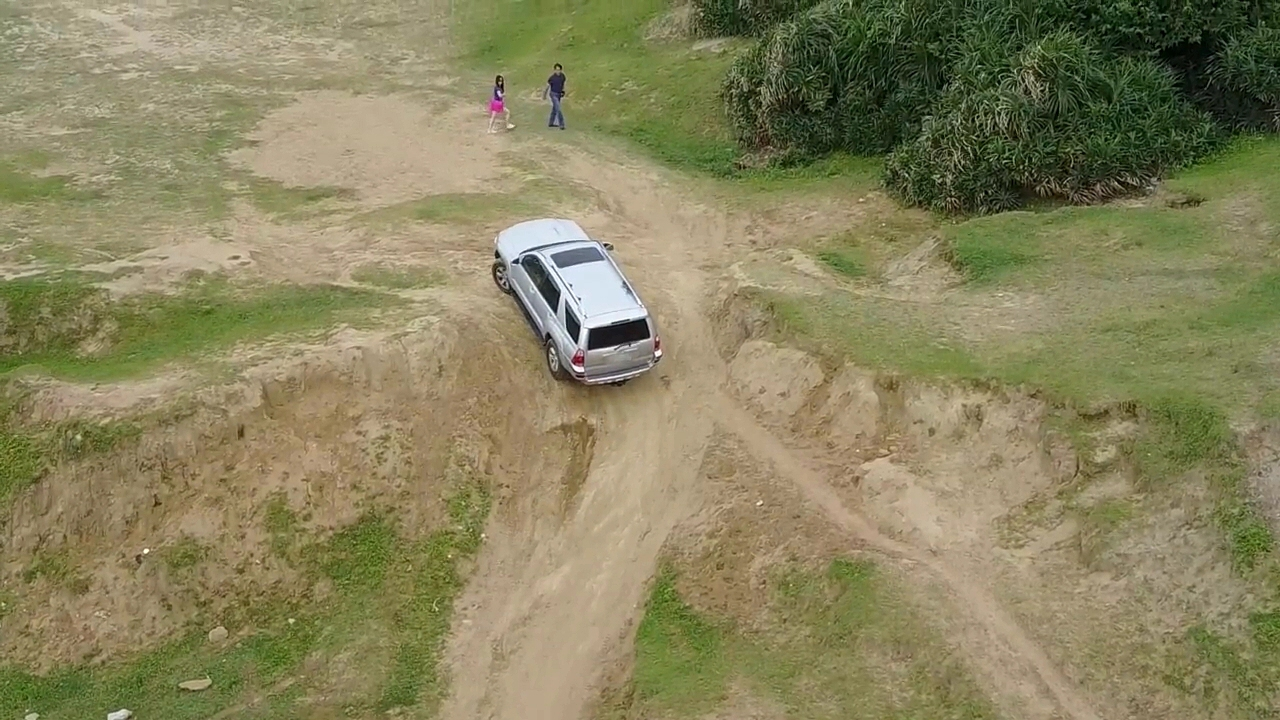araba: (494, 212, 665, 389)
insan: (541, 58, 569, 130), (484, 74, 516, 136)
